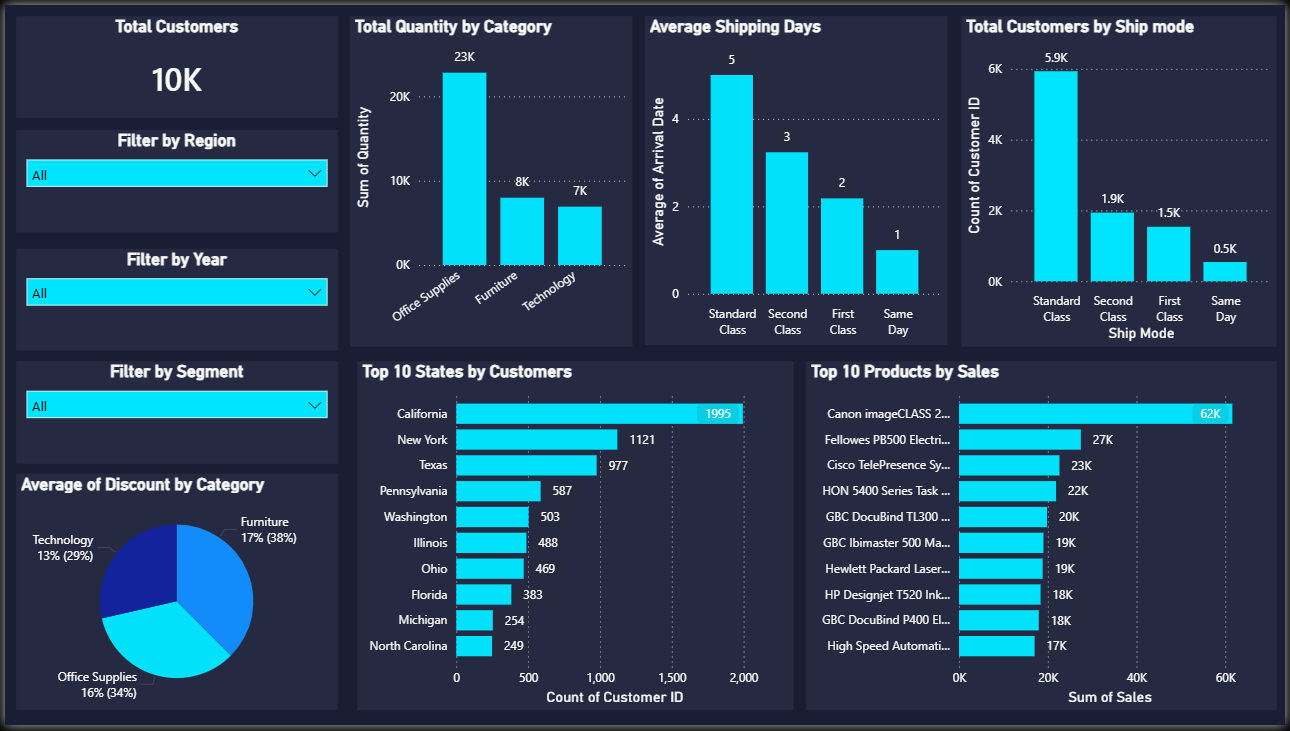

The dashboard page shown, as its layout file describes it:
{"tool":"powerbi","page":{"name":"Customer & Operations Analysis","canvas":[1280,720],"ordinal":5},"visuals":[{"type":"columnChart","title":"Total Customers by Ship mode","fields":{"Category":["Sample - Superstore.Ship Mode"],"Y":["CountNonNull(Sample - Superstore.Customer ID)"]},"box":[956.2,11.2,315,330],"z":0},{"type":"barChart","title":"Top 10 States by Customers","fields":{"Category":["Sample - Superstore.State"],"Y":["CountNonNull(Sample - Superstore.Customer ID)"]},"box":[352.5,356.2,436.2,348.8],"z":1000},{"type":"slicer","title":"Filter by Region","fields":{"Values":["Sample - Superstore.Region"]},"box":[11.2,125,321.2,102.5],"z":2000},{"type":"slicer","title":"Filter by Year","fields":{"Values":["Sample - Superstore.Year"]},"box":[11.2,243.8,321.2,101.2],"z":3000},{"type":"slicer","title":"Filter by Segment","fields":{"Values":["Sample - Superstore.Segment"]},"box":[11.2,356.2,321.2,102.5],"z":4000},{"type":"cardVisual","title":"Total Customers","fields":{"Data":["CountNonNull(Sample - Superstore.Customer ID)"]},"box":[11.2,11.2,321.2,101.2],"z":5000},{"type":"pieChart","title":"Average of Discount by Category","fields":{"Category":["Sample - Superstore.Category"],"Y":["Sample - Superstore.Avg. of Discount"]},"box":[11.2,468.8,321.2,236.2],"z":6000},{"type":"columnChart","title":"Total Quantity by Category","fields":{"Category":["Sample - Superstore.Category"],"Y":["Sum(Sample - Superstore.Quantity)"]},"box":[345,11.2,282.5,330],"z":7000},{"type":"barChart","title":"Top 10 Products by Sales","fields":{"Category":["Sample - Superstore.Product Name"],"Y":["Sum(Sample - Superstore.Sales)"]},"box":[801.2,356.2,470,348.8],"z":8000},{"type":"columnChart","title":"Average Shipping Days","fields":{"Category":["Sample - Superstore.Ship Mode"],"Y":["Avg(Sample - Superstore.Arrival Date)"]},"box":[640,11.2,302.5,328.8],"z":9000}]}

Visuals, with their boxes in screenshot pixels (x1, y1, x2, y2), scaled from the page's 1280x720 canvas onto the 1290x731 screenshot:
"Total Customers by Ship mode" columnChart: <region>964, 11, 1281, 346</region>
"Top 10 States by Customers" barChart: <region>355, 362, 795, 716</region>
"Filter by Region" slicer: <region>11, 127, 335, 231</region>
"Filter by Year" slicer: <region>11, 248, 335, 350</region>
"Filter by Segment" slicer: <region>11, 362, 335, 466</region>
"Total Customers" cardVisual: <region>11, 11, 335, 114</region>
"Average of Discount by Category" pieChart: <region>11, 476, 335, 716</region>
"Total Quantity by Category" columnChart: <region>348, 11, 632, 346</region>
"Top 10 Products by Sales" barChart: <region>807, 362, 1281, 716</region>
"Average Shipping Days" columnChart: <region>645, 11, 950, 345</region>
